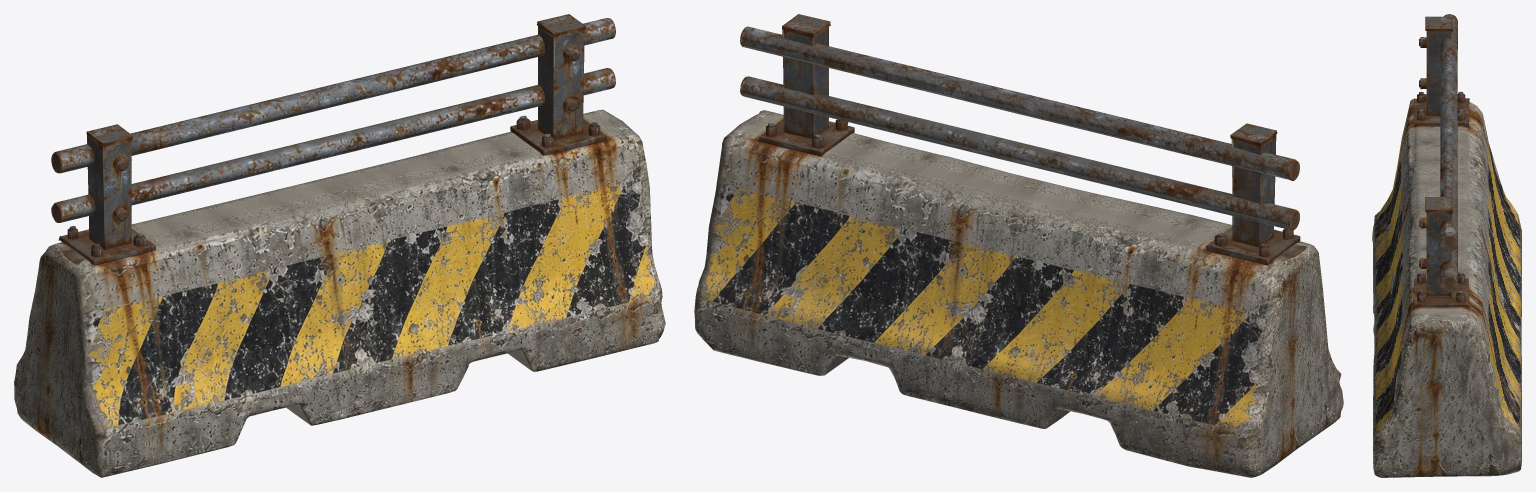
File: prop_harbor_barrier.glb
3 views of the same model, side by side, from view 1: azimuth 30°, elevation 25°; view 2: azimuth 150°, elevation 25°; view 3: azimuth 270°, elevation 25° (orthographic). The views are drawn at different scales.
Bounding box in the file's own units: 0.9541 × 0.4888 × 0.2646.
1 material, 1 textured.
